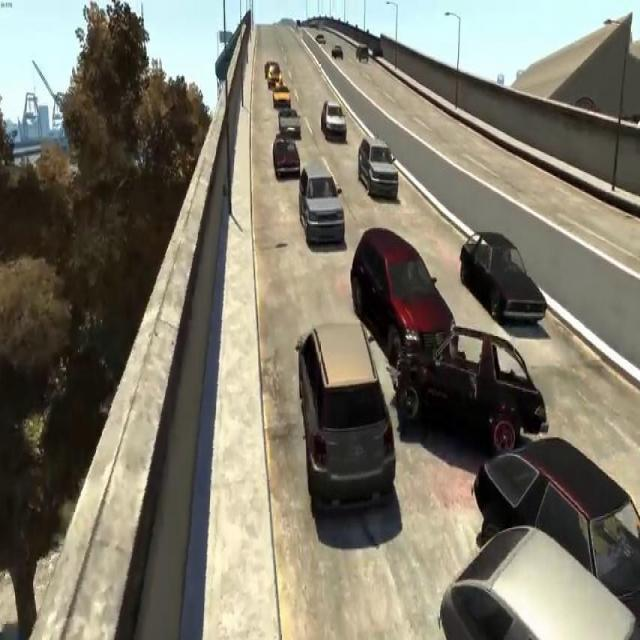moderate: (346, 218, 547, 444)
